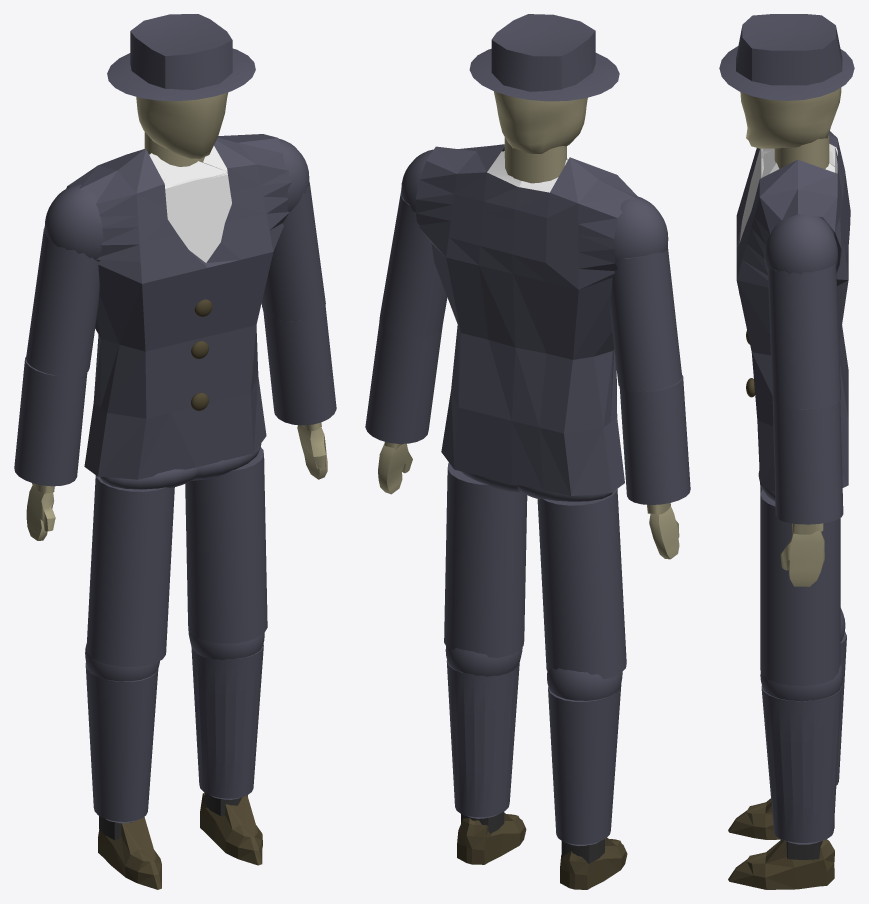
File: suit guy for atmosphere.fbx
3 renders of one model, left to right at view 1: azimuth 30°, elevation 25°; view 2: azimuth 150°, elevation 25°; view 3: azimuth 270°, elevation 25°, orthographic.
Visible parts, largest first — view 1: pCube24, pCylinder29, pCylinder28, pCylinder22, pCylinder21, pCylinder32, pCylinder33, pCube27, pCylinder31, pCylinder30, pSphere7, pCube23 (+13 smaller); view 2: pCube24, pCylinder29, pCylinder28, pCylinder22, pCylinder21, pCylinder32, pCylinder33, pCube27, pCylinder31, pCylinder30, pSphere7, pDisc1 (+10 smaller); view 3: pCube24, pCylinder28, pCylinder21, pCylinder30, pCylinder31, pCube27, pSphere7, pSphere24, pCube12, pDisc1, pCube3, pSphere9 (+7 smaller).
Part boxes in pixels (left/top/right/bottom): pCube24: left=66, top=134, right=291, bottom=479; pCylinder29: left=86, top=475, right=174, bottom=666; pCylinder28: left=185, top=447, right=267, bottom=643; pCylinder22: left=85, top=663, right=158, bottom=823; pCylinder21: left=191, top=644, right=263, bottom=799; pCylinder32: left=26, top=227, right=99, bottom=376; pCylinder33: left=14, top=356, right=87, bottom=486; pCube27: left=130, top=14, right=232, bottom=89; pCylinder31: left=263, top=305, right=336, bottom=425; pCylinder30: left=261, top=183, right=325, bottom=322; pSphere7: left=136, top=92, right=228, bottom=158; pCube23: left=165, top=172, right=231, bottom=262; pCube24: left=415, top=144, right=637, bottom=495; pCylinder29: left=537, top=489, right=626, bottom=678; pCylinder28: left=444, top=463, right=527, bottom=657; pCylinder22: left=548, top=684, right=621, bottom=846; pCylinder21: left=446, top=660, right=519, bottom=818; pCylinder32: left=610, top=246, right=681, bottom=391; pCylinder33: left=619, top=375, right=690, bottom=504; pCube27: left=491, top=14, right=595, bottom=91; pCylinder31: left=365, top=321, right=442, bottom=443; pCylinder30: left=379, top=191, right=447, bottom=337; pSphere7: left=494, top=91, right=587, bottom=153; pDisc1: left=469, top=48, right=619, bottom=101; pCube24: left=736, top=131, right=850, bottom=491; pCylinder28: left=760, top=489, right=840, bottom=685; pCylinder21: left=761, top=686, right=841, bottom=844; pCylinder30: left=768, top=264, right=840, bottom=408; pCylinder31: left=772, top=401, right=843, bottom=524; pCube27: left=736, top=14, right=842, bottom=85; pSphere7: left=740, top=87, right=841, bottom=148; pSphere24: left=764, top=214, right=837, bottom=274; pCube12: left=728, top=839, right=834, bottom=889; pDisc1: left=719, top=46, right=854, bottom=100; pCube3: left=780, top=531, right=824, bottom=586; pSphere9: left=760, top=663, right=843, bottom=701.
Size of the model in its own units: 9.03 by 22.65 by 3.37.
